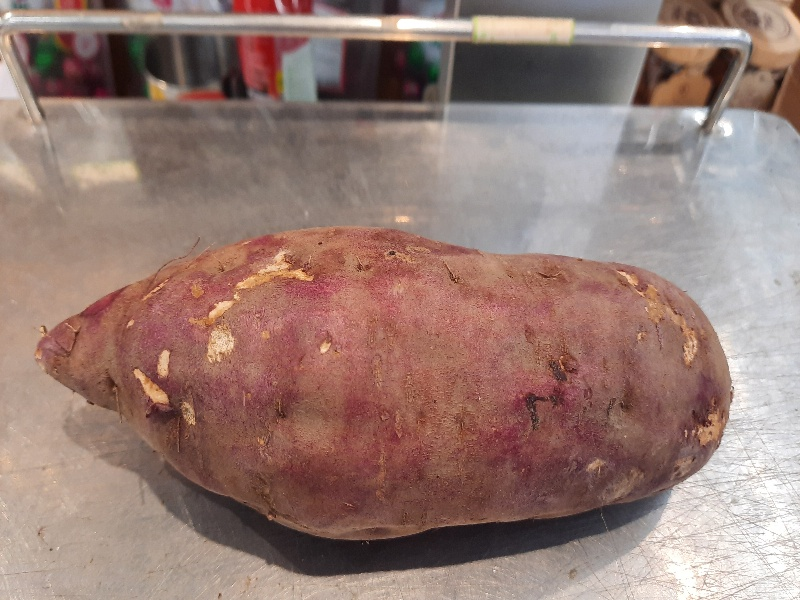vege: (32, 219, 737, 551)
